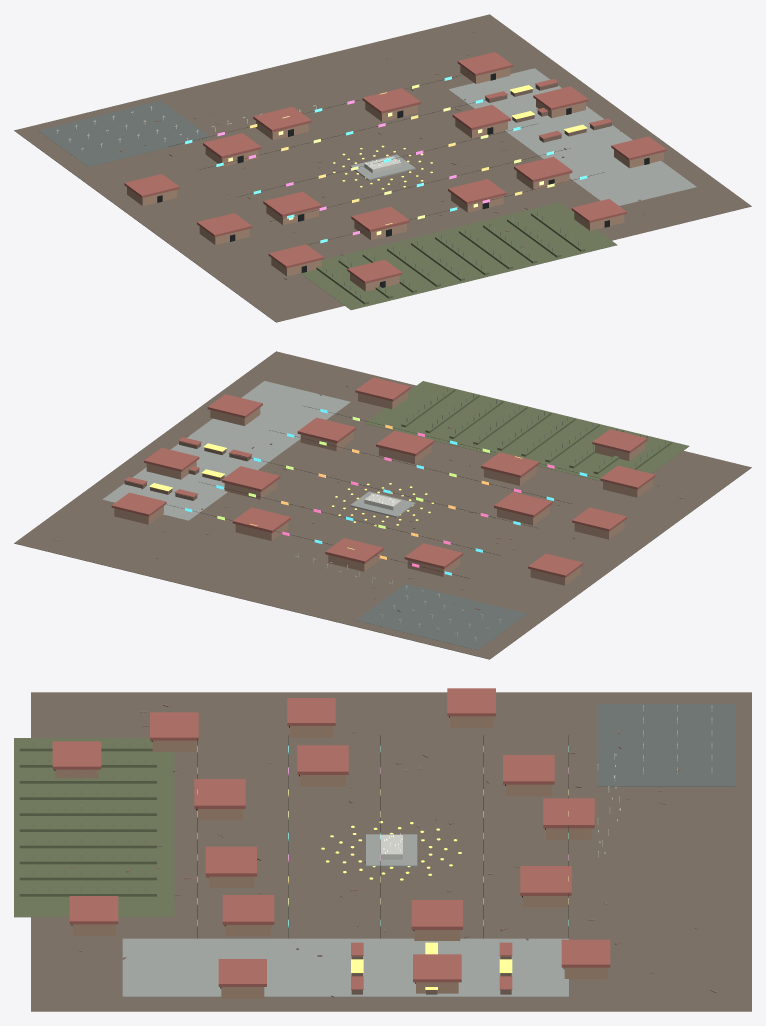
File: level_04_flor_de_cempasuchil_village.glb
3 renders of one model, top to bottom at view 1: azimuth 30°, elevation 25°; view 2: azimuth 150°, elevation 25°; view 3: azimuth 270°, elevation 25°, orthographic. The views are drawn at different scales.
Visible parts, largest first — view 1: village_dirt_square, south_cornfield_ground, east_market_lane, north_cemetery_ground, adobe_house_0_roof, adobe_house_1_roof, adobe_house_2_roof, adobe_house_3_roof, adobe_house_4_roof, adobe_house_5_roof, adobe_house_6_roof, adobe_house_7_roof (+9 smaller); view 2: village_dirt_square, south_cornfield_ground, east_market_lane, north_cemetery_ground, adobe_house_0_roof, adobe_house_3_roof, adobe_house_1_roof, adobe_house_2_roof, adobe_house_4_roof, adobe_house_5_roof, adobe_house_6_roof, adobe_house_7_roof (+9 smaller); view 3: village_dirt_square, east_market_lane, south_cornfield_ground, north_cemetery_ground, adobe_house_1_roof, adobe_house_6_roof, adobe_house_7_roof, adobe_house_0_roof, adobe_house_2_roof, adobe_house_3_roof, adobe_house_4_roof, adobe_house_5_roof (+27 smaller).
Part boxes in pixels (left/top/right/bottom): village_dirt_square: left=14, top=14, right=751, bottom=322; south_cornfield_ground: left=300, top=202, right=617, bottom=309; east_market_lane: left=448, top=68, right=696, bottom=205; north_cemetery_ground: left=38, top=100, right=210, bottom=166; adobe_house_0_roof: left=203, top=133, right=261, bottom=158; adobe_house_1_roof: left=253, top=106, right=311, bottom=132; adobe_house_2_roof: left=362, top=88, right=420, bottom=113; adobe_house_3_roof: left=452, top=105, right=510, bottom=130; adobe_house_4_roof: left=263, top=191, right=321, bottom=217; adobe_house_5_roof: left=351, top=206, right=409, bottom=232; adobe_house_6_roof: left=448, top=179, right=506, bottom=204; adobe_house_7_roof: left=514, top=157, right=572, bottom=182; village_dirt_square: left=14, top=351, right=751, bottom=659; south_cornfield_ground: left=365, top=381, right=689, bottom=481; east_market_lane: left=102, top=381, right=350, bottom=520; north_cemetery_ground: left=355, top=584, right=527, bottom=650; adobe_house_0_roof: left=404, top=543, right=463, bottom=568; adobe_house_3_roof: left=221, top=466, right=280, bottom=491; adobe_house_1_roof: left=325, top=538, right=383, bottom=563; adobe_house_2_roof: left=232, top=507, right=290, bottom=532; adobe_house_4_roof: left=494, top=492, right=552, bottom=517; adobe_house_5_roof: left=481, top=452, right=539, bottom=477; adobe_house_6_roof: left=376, top=430, right=434, bottom=456; adobe_house_7_roof: left=297, top=417, right=355, bottom=443; village_dirt_square: left=31, top=692, right=751, bottom=1011; east_market_lane: left=122, top=938, right=568, bottom=996; south_cornfield_ground: left=14, top=738, right=174, bottom=917; north_cemetery_ground: left=597, top=704, right=734, bottom=786; adobe_house_1_roof: left=543, top=798, right=594, bottom=828; adobe_house_6_roof: left=205, top=846, right=256, bottom=876; adobe_house_7_roof: left=222, top=895, right=274, bottom=924; adobe_house_0_roof: left=503, top=755, right=554, bottom=784; adobe_house_2_roof: left=520, top=866, right=571, bottom=895; adobe_house_3_roof: left=411, top=900, right=462, bottom=929; adobe_house_4_roof: left=297, top=745, right=348, bottom=774; adobe_house_5_roof: left=194, top=779, right=245, bottom=808.
Size of the model in its own units: 132 by 3.29 by 129.
